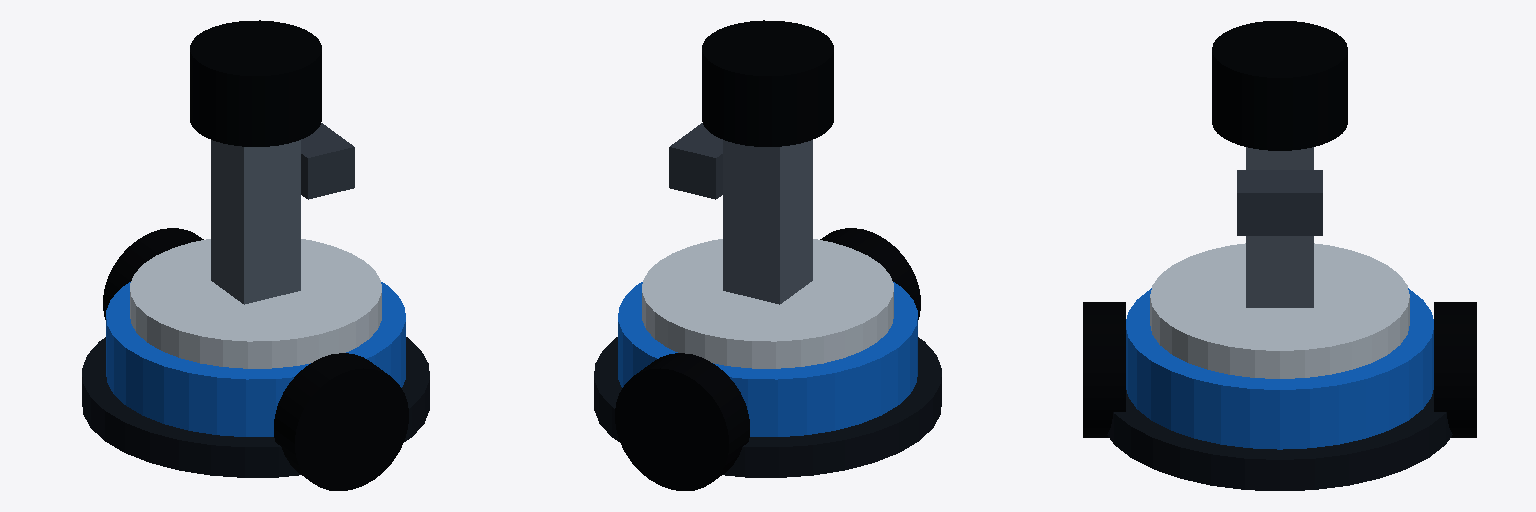
The robot description file, URDF, robot "robot_scope_generic_turtlebot":
<?xml version="1.0"?>
<!--
  Robot Scope generic TurtleBot-class dashboard model.
  Copyright (c) 2026 Robot Scope contributors. MIT licensed.

  This is an original primitive-only approximation. It is not an official
  ROBOTIS model and does not represent a particular TurtleBot variant or exact
  dimensions. Do not use it for collision checking, simulation, or fabrication.
-->
<robot name="robot_scope_generic_turtlebot">
  <robot_scope
    robot_type="turtlebot"
    name="Generic TurtleBot-class approximation"
    display_name="TurtleBot (generic approximation)"
    fidelity="generic-approximation"
    approximate_size_m="0.32 0.31 0.43"
    base_height_m="0.0"
    notice="Robot Scope generic TurtleBot-class visualization; not a variant-specific or dimensionally accurate model."/>

  <link name="base_link">
    <visual>
      <origin xyz="0 0 0.055" rpy="0 0 0"/>
      <geometry><cylinder radius="0.125" length="0.08"/></geometry>
      <material name="turtlebot_blue"><color rgba="0.10 0.42 0.78 1"/></material>
    </visual>
  </link>

  <link name="bumper_link">
    <visual>
      <origin xyz="0 0 0" rpy="0 0 0"/>
      <geometry><cylinder radius="0.145" length="0.028"/></geometry>
      <material name="bumper_dark"><color rgba="0.08 0.10 0.13 1"/></material>
    </visual>
  </link>
  <joint name="bumper_joint" type="fixed">
    <parent link="base_link"/><child link="bumper_link"/>
    <origin xyz="0 0 0.028" rpy="0 0 0"/>
  </joint>

  <link name="left_wheel_link">
    <visual>
      <origin xyz="0 0 0" rpy="1.57079632679 0 0"/>
      <geometry><cylinder radius="0.055" length="0.035"/></geometry>
      <material name="wheel_rubber"><color rgba="0.035 0.04 0.05 1"/></material>
    </visual>
  </link>
  <joint name="left_wheel_joint" type="continuous">
    <parent link="base_link"/><child link="left_wheel_link"/>
    <origin xyz="0 0.142 0.055" rpy="0 0 0"/><axis xyz="0 1 0"/>
  </joint>

  <link name="right_wheel_link">
    <visual>
      <origin xyz="0 0 0" rpy="1.57079632679 0 0"/>
      <geometry><cylinder radius="0.055" length="0.035"/></geometry>
      <material name="wheel_rubber"><color rgba="0.035 0.04 0.05 1"/></material>
    </visual>
  </link>
  <joint name="right_wheel_joint" type="continuous">
    <parent link="base_link"/><child link="right_wheel_link"/>
    <origin xyz="0 -0.142 0.055" rpy="0 0 0"/><axis xyz="0 1 0"/>
  </joint>

  <link name="rear_caster_link">
    <visual>
      <origin xyz="0 0 0" rpy="0 0 0"/>
      <geometry><sphere radius="0.026"/></geometry>
      <material name="caster_dark"><color rgba="0.12 0.13 0.15 1"/></material>
    </visual>
  </link>
  <joint name="rear_caster_joint" type="fixed">
    <parent link="base_link"/><child link="rear_caster_link"/>
    <origin xyz="-0.092 0 0.022" rpy="0 0 0"/>
  </joint>

  <link name="deck_link">
    <visual>
      <origin xyz="0 0 0" rpy="0 0 0"/>
      <geometry><cylinder radius="0.105" length="0.025"/></geometry>
      <material name="deck_silver"><color rgba="0.72 0.76 0.80 1"/></material>
    </visual>
  </link>
  <joint name="deck_joint" type="fixed">
    <parent link="base_link"/><child link="deck_link"/>
    <origin xyz="0 0 0.108" rpy="0 0 0"/>
  </joint>

  <link name="mast_link">
    <visual>
      <origin xyz="0 0 0.075" rpy="0 0 0"/>
      <geometry><box size="0.055 0.055 0.15"/></geometry>
      <material name="mast_gray"><color rgba="0.34 0.38 0.43 1"/></material>
    </visual>
  </link>
  <joint name="mast_joint" type="fixed">
    <parent link="deck_link"/><child link="mast_link"/>
    <origin xyz="0 0 0.015" rpy="0 0 0"/>
  </joint>

  <link name="lidar_link">
    <visual>
      <origin xyz="0 0 0" rpy="0 0 0"/>
      <geometry><cylinder radius="0.055" length="0.065"/></geometry>
      <material name="lidar_black"><color rgba="0.03 0.04 0.05 1"/></material>
    </visual>
  </link>
  <joint name="lidar_joint" type="fixed">
    <parent link="mast_link"/><child link="lidar_link"/>
    <origin xyz="0 0 0.185" rpy="0 0 0"/>
  </joint>

  <link name="camera_link">
    <visual>
      <origin xyz="0 0 0" rpy="0 0 0"/>
      <geometry><box size="0.045 0.07 0.038"/></geometry>
      <material name="camera_gray"><color rgba="0.22 0.25 0.29 1"/></material>
    </visual>
  </link>
  <joint name="camera_joint" type="fixed">
    <parent link="mast_link"/><child link="camera_link"/>
    <origin xyz="0.052 0 0.105" rpy="0 0 0"/>
  </joint>

  <robot_scope_defaults>
    <joint name="left_wheel_joint" position="0"/>
    <joint name="right_wheel_joint" position="0"/>
  </robot_scope_defaults>
</robot>

--- Render facts (derived) ---
Views: 3 orthographic renders of the robot side by side, from view 1: azimuth 30°, elevation 25°; view 2: azimuth 150°, elevation 25°; view 3: azimuth 270°, elevation 25°.
Robot: robot_scope_generic_turtlebot — 9 links, 8 joints (2 continuous, 6 fixed); root link base_link; default pose: every joint at zero.
Links seen in each view (by area): view 1: deck_link, base_link, lidar_link, right_wheel_link, mast_link, bumper_link, camera_link, left_wheel_link; view 2: deck_link, base_link, lidar_link, left_wheel_link, mast_link, bumper_link, camera_link, right_wheel_link; view 3: deck_link, base_link, lidar_link, bumper_link, mast_link, camera_link, left_wheel_link, right_wheel_link.
Link boxes in pixels (x1,y1,x2,y2): deck_link: (130, 239, 381, 368); base_link: (106, 282, 405, 436); lidar_link: (190, 20, 321, 146); right_wheel_link: (274, 353, 408, 490); mast_link: (211, 140, 300, 304); bumper_link: (82, 337, 429, 477); camera_link: (301, 123, 354, 199); left_wheel_link: (103, 228, 203, 319); deck_link: (642, 239, 893, 368); base_link: (618, 282, 917, 436); lidar_link: (702, 20, 833, 146); left_wheel_link: (615, 353, 749, 490); mast_link: (723, 140, 812, 304); bumper_link: (594, 337, 941, 477); camera_link: (669, 123, 722, 199); right_wheel_link: (820, 228, 920, 319); deck_link: (1150, 243, 1409, 378); base_link: (1126, 288, 1433, 449); lidar_link: (1212, 21, 1347, 150); bumper_link: (1107, 390, 1452, 490); mast_link: (1246, 147, 1313, 307); camera_link: (1237, 170, 1322, 235); left_wheel_link: (1434, 302, 1476, 437); right_wheel_link: (1083, 302, 1125, 437).
Size in the robot's own frame: 0.29 by 0.319 by 0.3445 metres.
Geometry: primitives only (box / cylinder / sphere), no mesh files.
